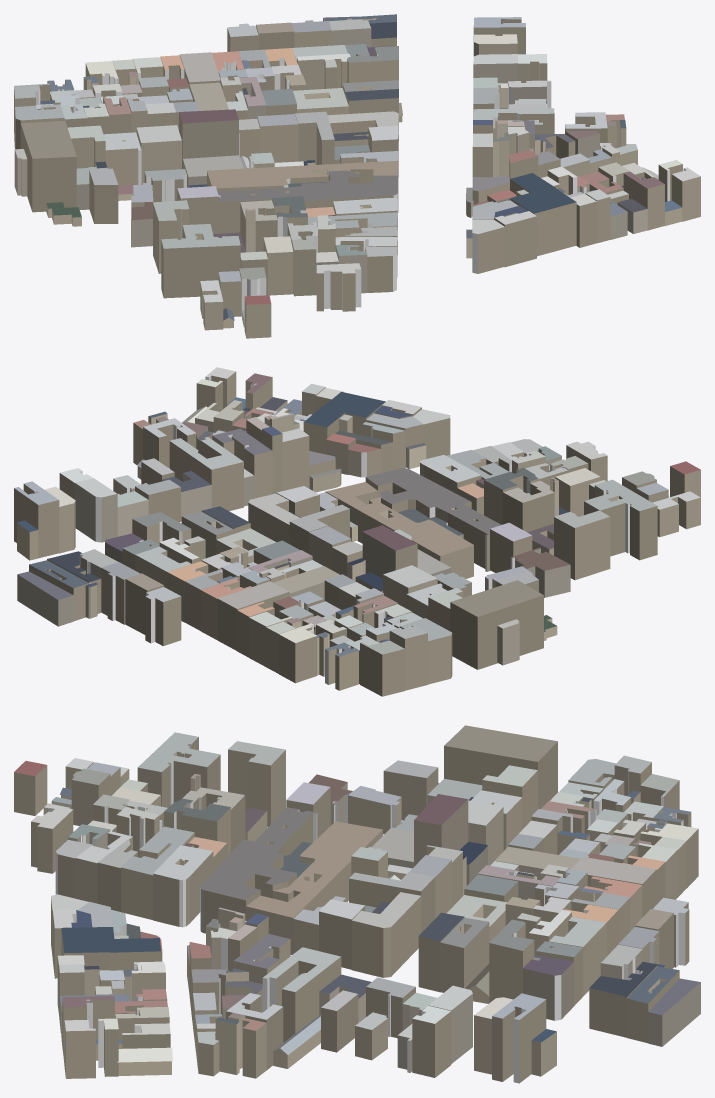
The picture shows the model from 3 angles, top to bottom: view 1: azimuth 30°, elevation 25°; view 2: azimuth 150°, elevation 25°; view 3: azimuth 270°, elevation 25°; orthographic projection. The views are drawn at different scales.
Parts seen in each view (by area): view 1: tuile; view 2: tuile; view 3: tuile.
Part boxes in pixels (left/top/right/bottom): tuile: left=14, top=14, right=700, bottom=338; tuile: left=14, top=367, right=700, bottom=696; tuile: left=14, top=725, right=700, bottom=1083.
Bounding box in the file's own units: 263 × 37.1 × 259.
